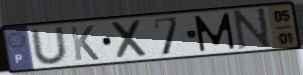7: (153, 15, 180, 57)
K: (68, 24, 101, 62)
M: (192, 12, 238, 54)
N: (233, 6, 273, 51)
U: (29, 25, 71, 66)
X: (109, 18, 151, 61)
